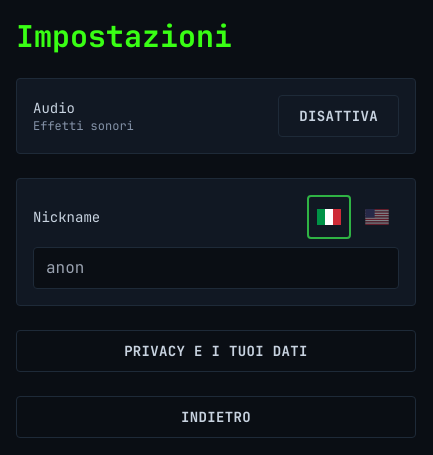
Scenario: LanguageSwitch › translates the whole screen in place when English is picked
Expected: the heading "Impostazioni" is shown, left=16, top=16, right=232, bottom=56
Step 1. Click the button named "English" → [377, 217], box left=355, top=195, right=399, bottom=239
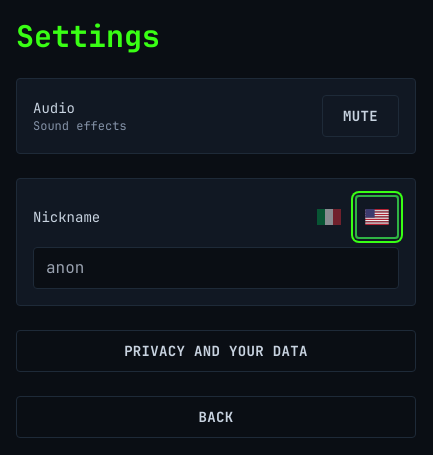
Now the heading "Settings" is shown, box left=16, top=16, right=160, bottom=56
Now the button "Back" is shown, box left=16, top=396, right=416, bottom=438
Now the heading "Impostazioni" is gone
